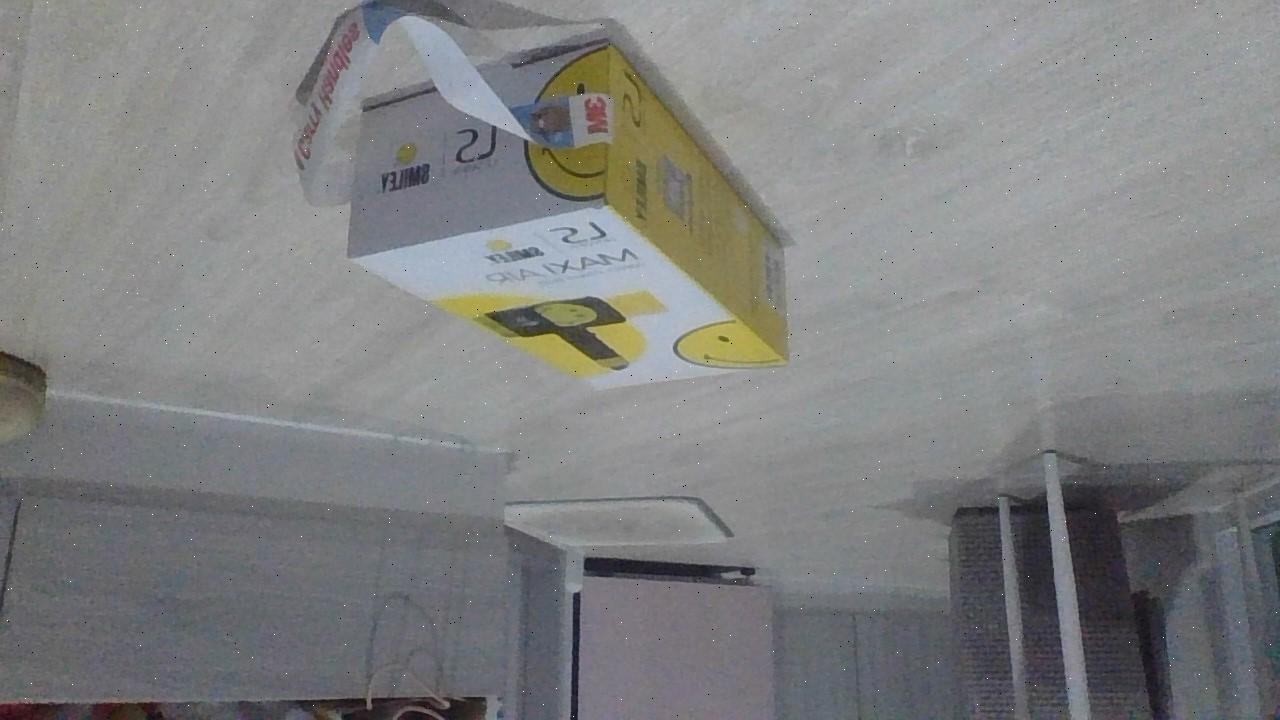Dryer: (341, 34, 796, 394)
